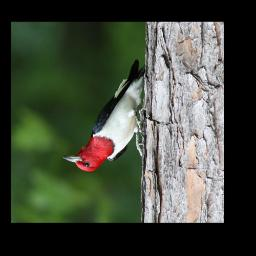Woodpecker: (60, 60, 150, 172)
